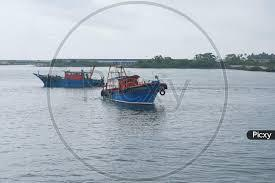fishing boat: (99, 61, 170, 109), (34, 62, 105, 88)
